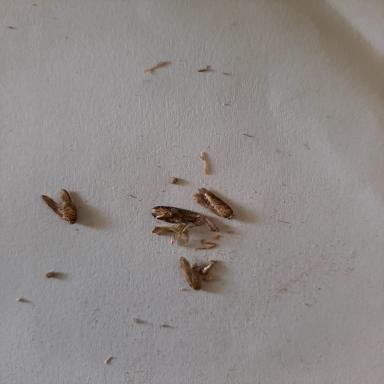pbw: (192, 188, 232, 219), (40, 189, 76, 223), (150, 204, 200, 222), (178, 256, 200, 289)
